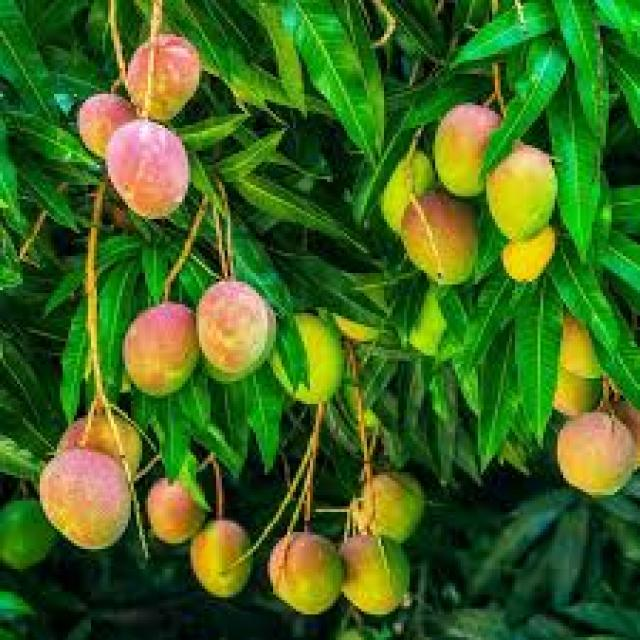mango: (193, 282, 279, 387)
